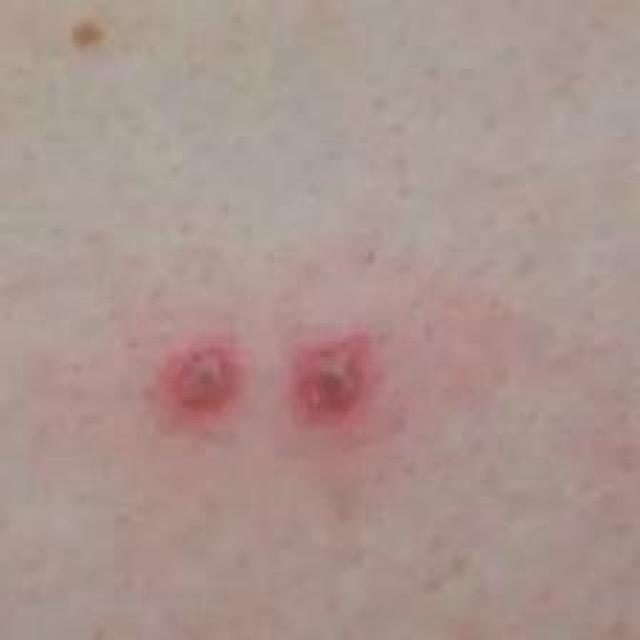monkeypox: (0, 15, 473, 566)
